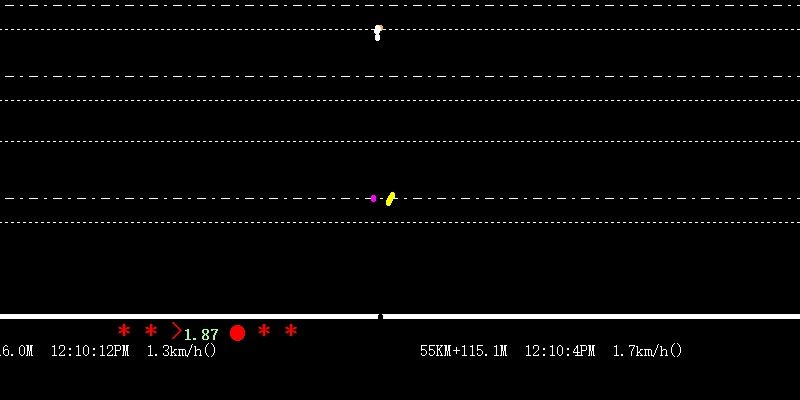circle: (228, 323, 246, 341)
face_s: (372, 20, 383, 46)
star: (116, 322, 133, 340), (144, 321, 159, 340), (281, 323, 299, 337), (258, 322, 270, 339)
